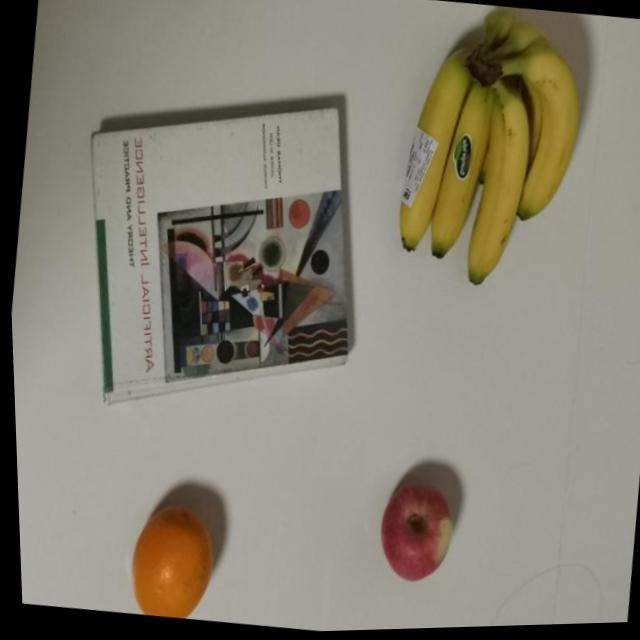Apple: (363, 461, 471, 600)
Banana: (373, 0, 599, 302)
Book: (52, 61, 381, 438)
Orange: (114, 491, 220, 623)
